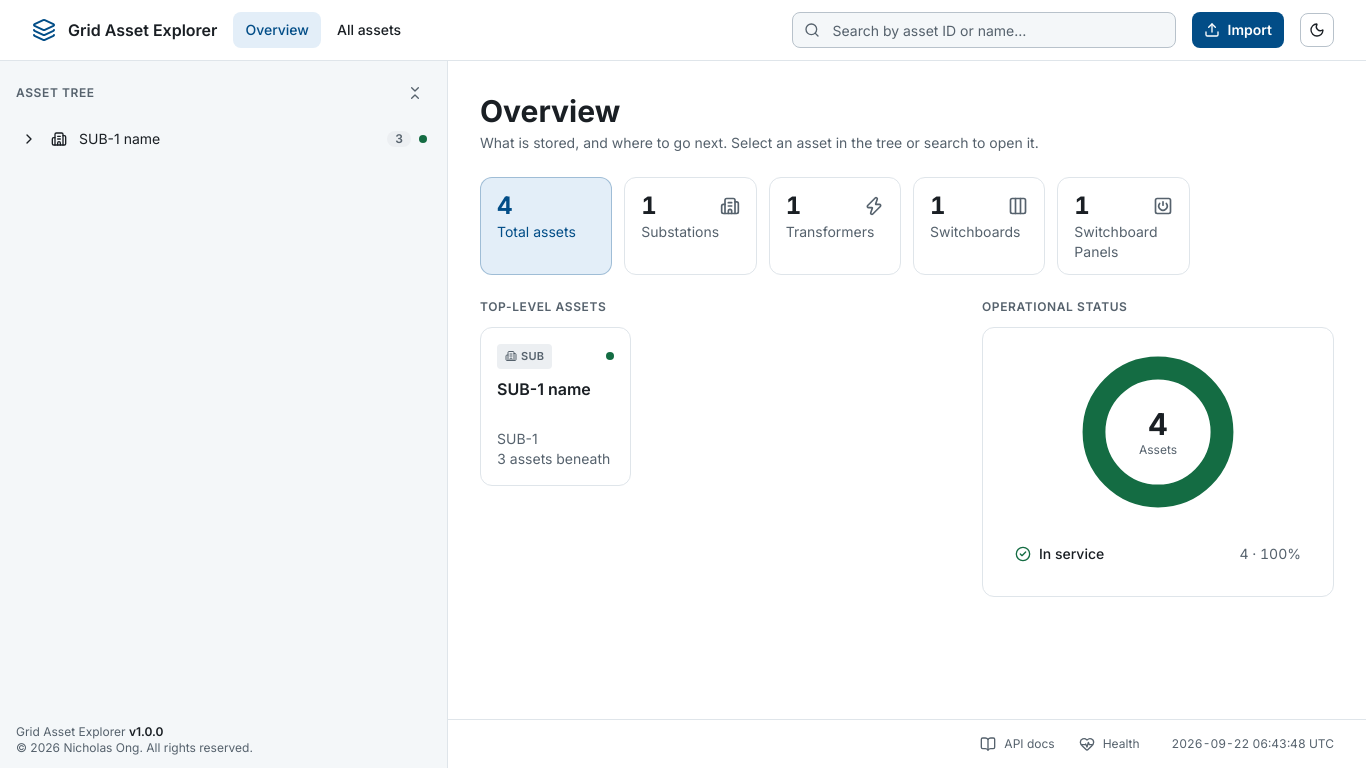
Test: SearchBar › says so when nothing matches
In the dropdown: [984, 30] box left=792, top=12, right=1176, bottom=48, type "zzz"
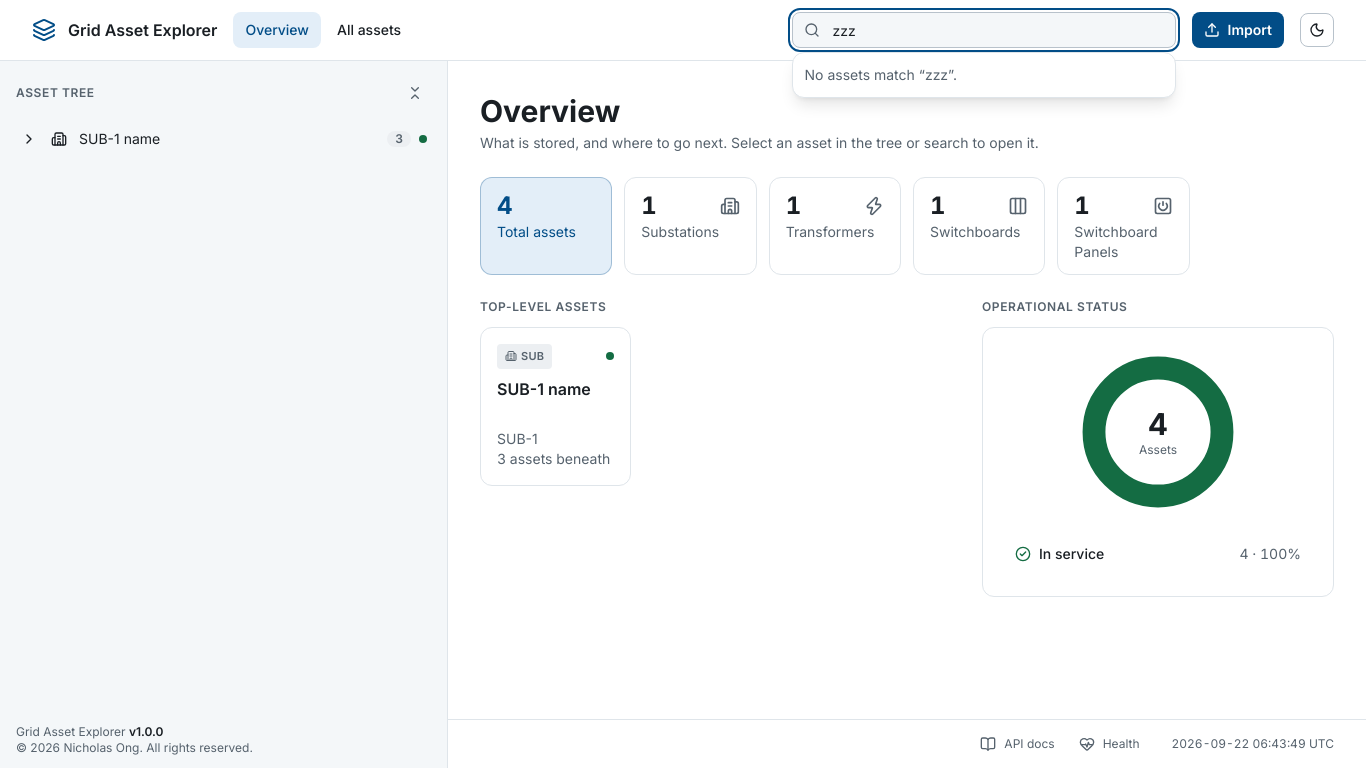
Check: the text "No assets match “zzz”." is shown, box left=804, top=66, right=957, bottom=83
